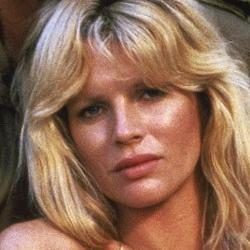face: (14, 4, 244, 233)
